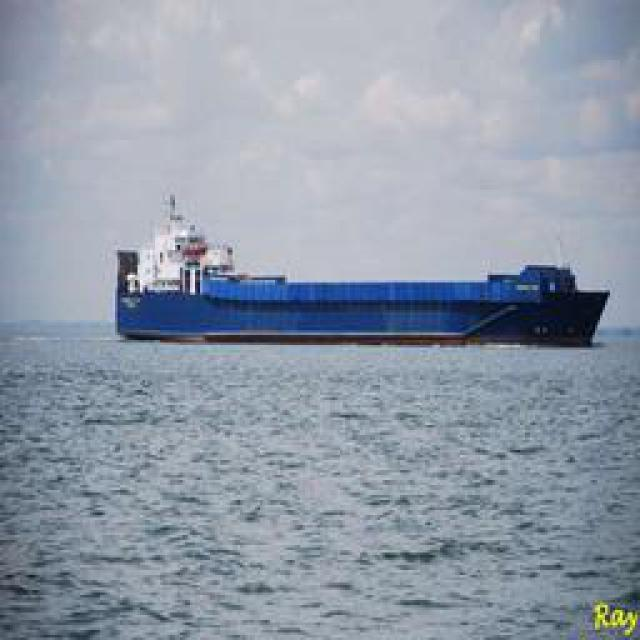Ship: (115, 216, 603, 346)
